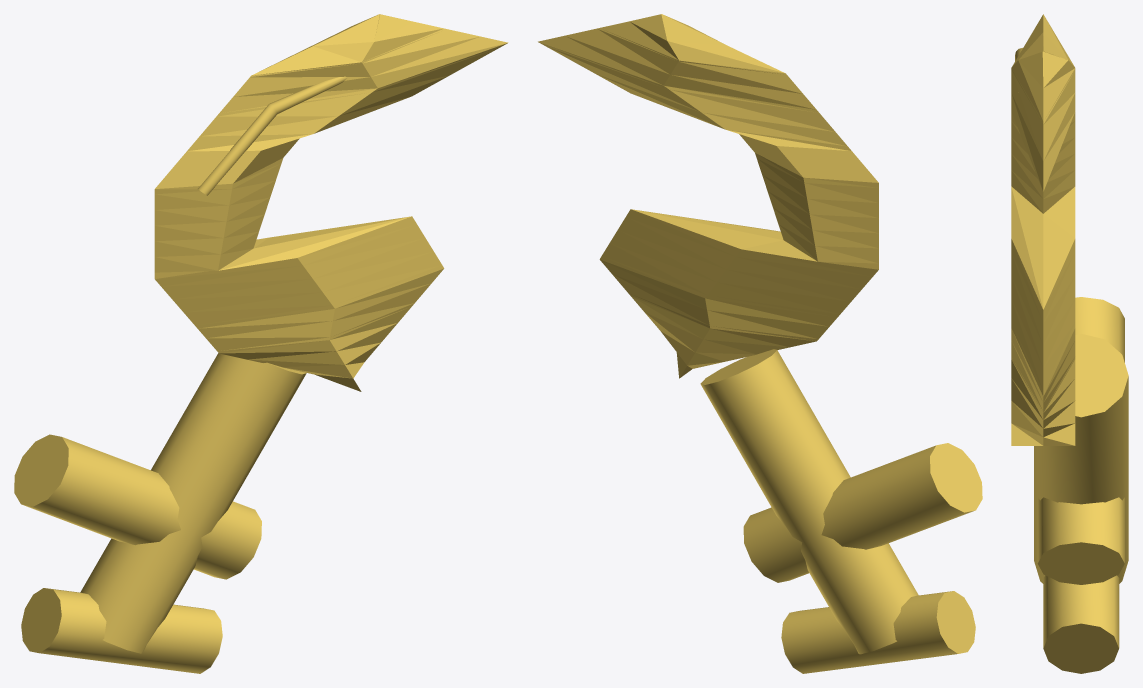
File: kronos.glb
The picture shows the model from 3 angles, left to right: view 1: azimuth 30°, elevation 25°; view 2: azimuth 150°, elevation 25°; view 3: azimuth 270°, elevation 25°; orthographic projection. The views are drawn at different scales.
Size of the model in its own units: 22 by 28 by 4.14.
